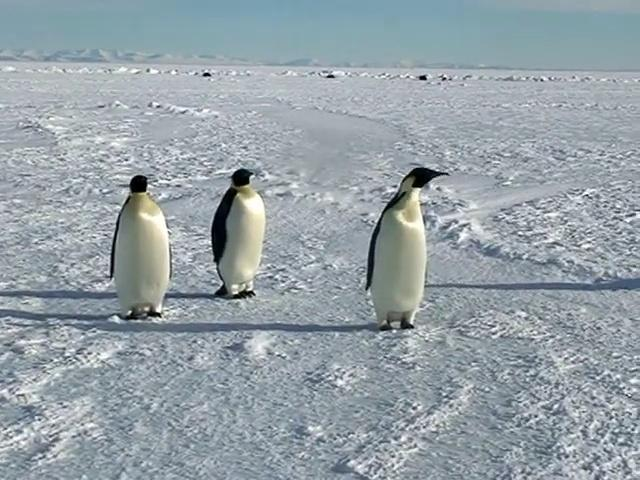animal: (366, 167, 447, 329)
